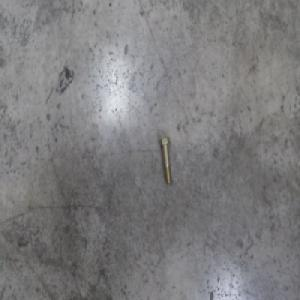Bolt: (159, 136, 172, 185)
